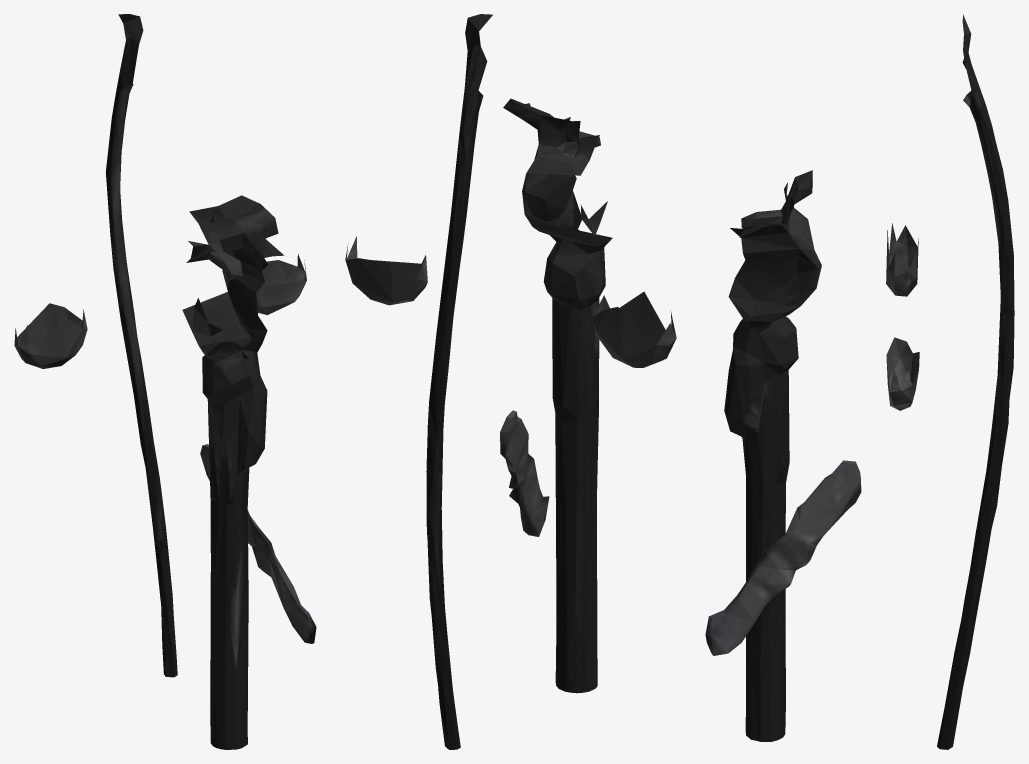
The model's file is LightPoleTop.obj.
The picture shows the model from 3 angles, left to right: view 1: azimuth 30°, elevation 25°; view 2: azimuth 150°, elevation 25°; view 3: azimuth 270°, elevation 25°; orthographic projection. The views are drawn at different scales.
Size of the model in its own units: 22.06 by 48.42 by 19.1.
Materials: 1 (1 with a texture image).
